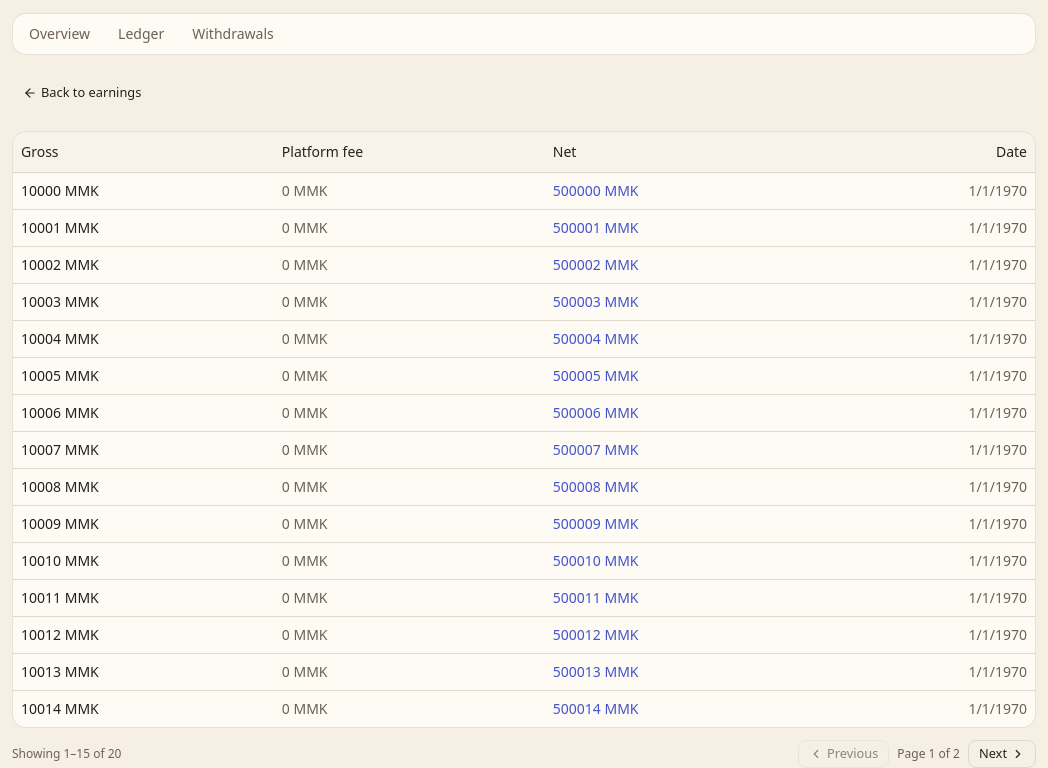
Test case: EarningsLedgerPage › paginates the ledger client-side (15 rows per page)
(page scrolled)
Expected: the text "500000 MMK" is shown, [545,172,828,209]
Expected: the text "500019 MMK" is not shown
Click the button "Next" at (1002, 754), box [968,740,1036,767]
(page scrolled)
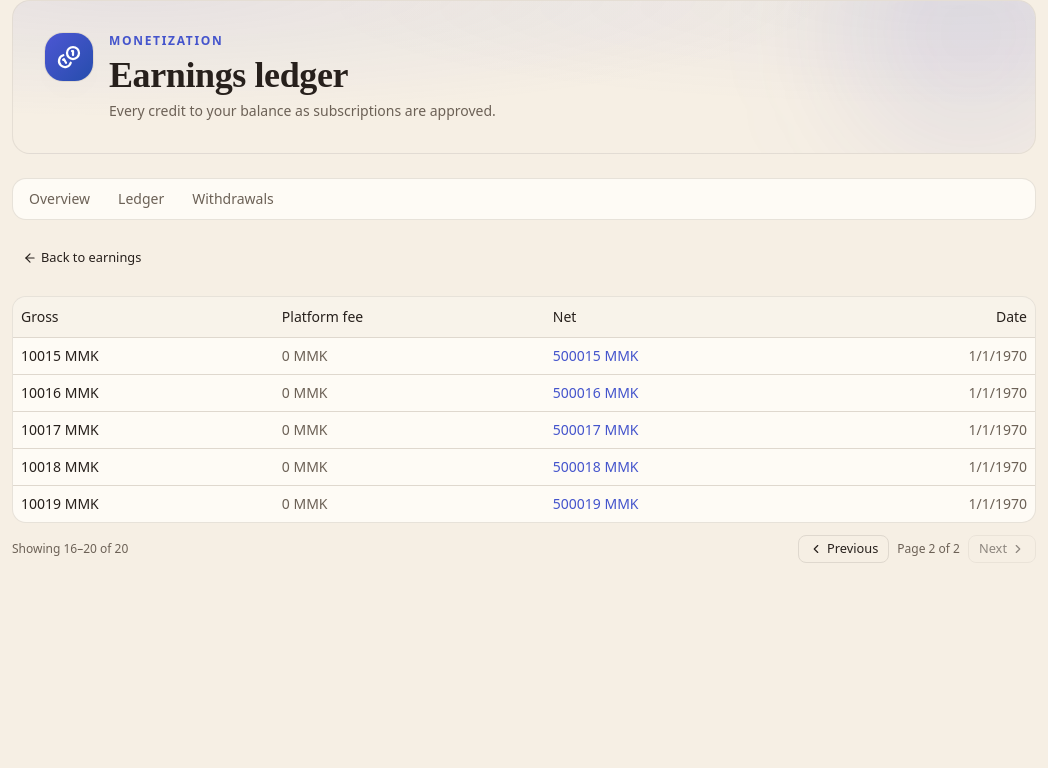
Expected: the text "500019 MMK" is shown, [545,485,828,522]
Expected: the text "500000 MMK" is gone
Expected: the text "Page 2 of 2" is shown, [897,540,960,556]
